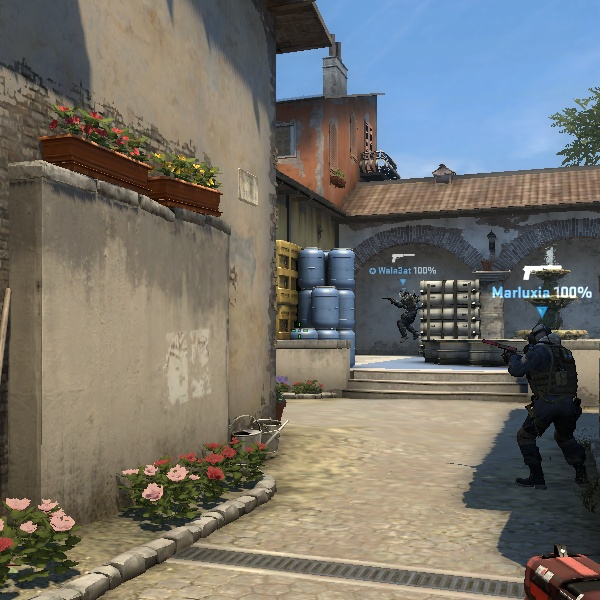ct_body: (493, 315, 595, 492)
ct_head: (525, 317, 562, 352)
